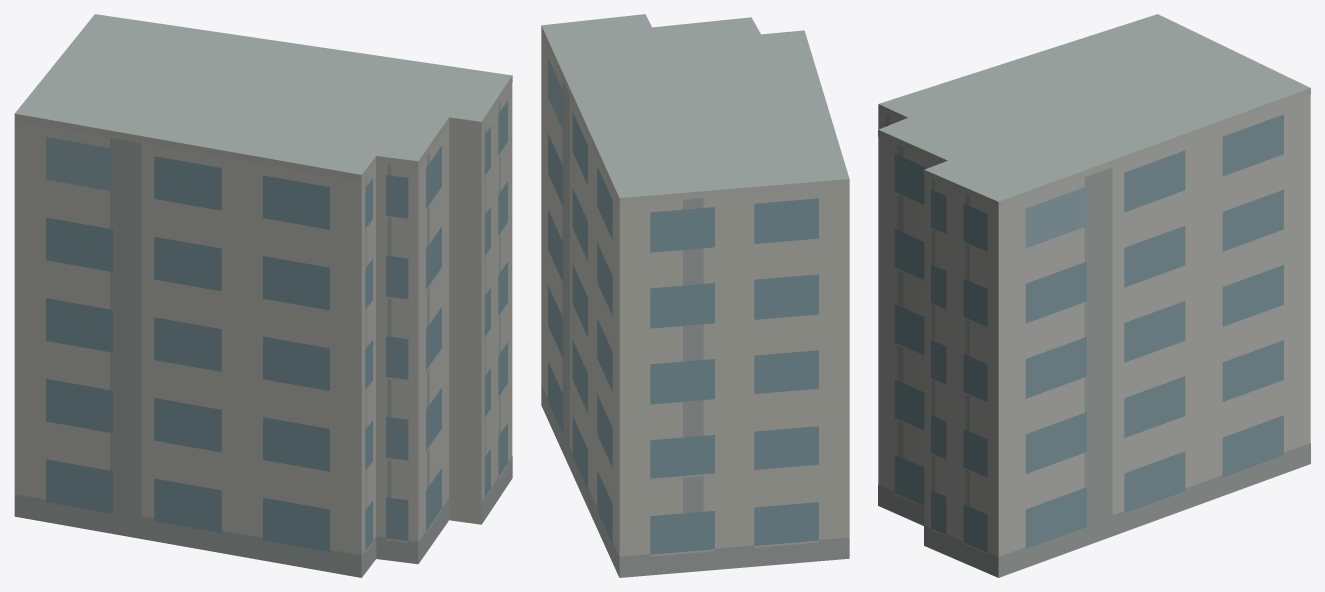
The model's file is survey-upis-32719878.glb.
The picture shows the model from 3 angles, left to right: view 1: azimuth 30°, elevation 25°; view 2: azimuth 150°, elevation 25°; view 3: azimuth 270°, elevation 25°; orthographic projection. The views are drawn at different scales.
Visible parts, largest first — view 1: survey-upis-32719878.tmp; view 2: survey-upis-32719878.tmp; view 3: survey-upis-32719878.tmp.
Boxes of the visible parts, x1,y1,x2,y2 form: survey-upis-32719878.tmp: [14, 14, 512, 577]; survey-upis-32719878.tmp: [541, 14, 849, 577]; survey-upis-32719878.tmp: [878, 14, 1310, 577].
Size of the model in its own units: 14.2 by 13.25 by 13.82.
